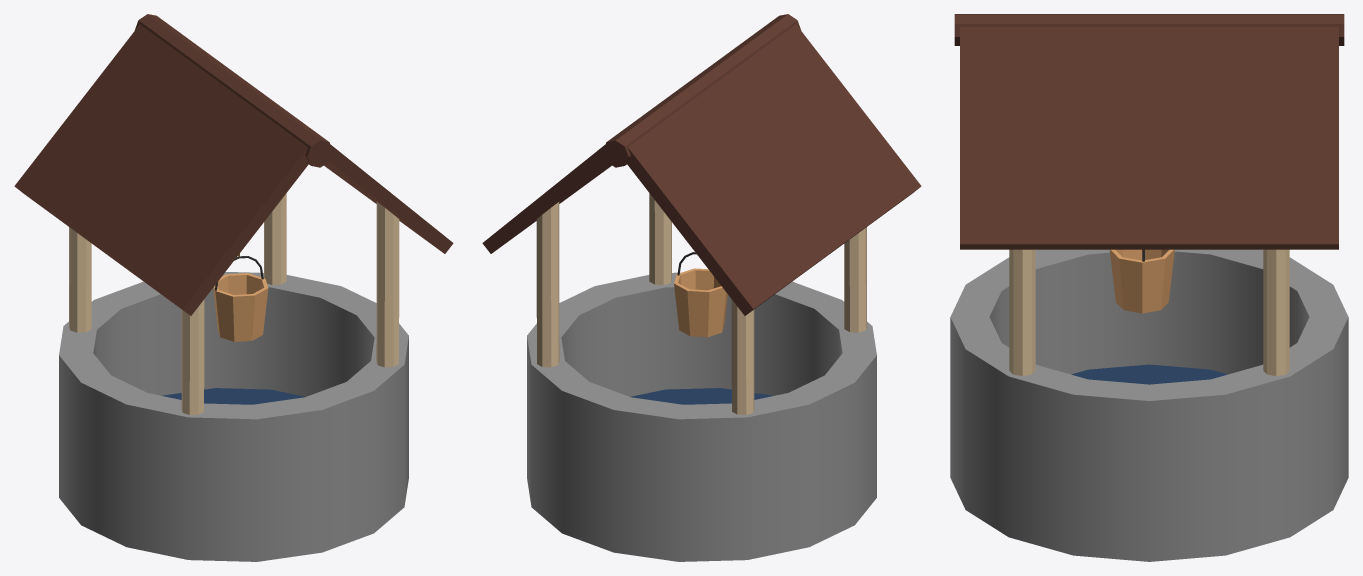
The model's file is Well.fbx.
3 views of the same model, side by side, from view 1: azimuth 30°, elevation 25°; view 2: azimuth 150°, elevation 25°; view 3: azimuth 270°, elevation 25° (orthographic). The views are drawn at different scales.
Parts seen in each view (by area): view 1: Well; view 2: Well; view 3: Well.
Part boxes in pixels (x1,y1,x2,y2): Well: (14, 14, 453, 561); Well: (482, 14, 921, 561); Well: (950, 14, 1348, 561).
Bounding box in the file's own units: 217 × 279 × 217.
